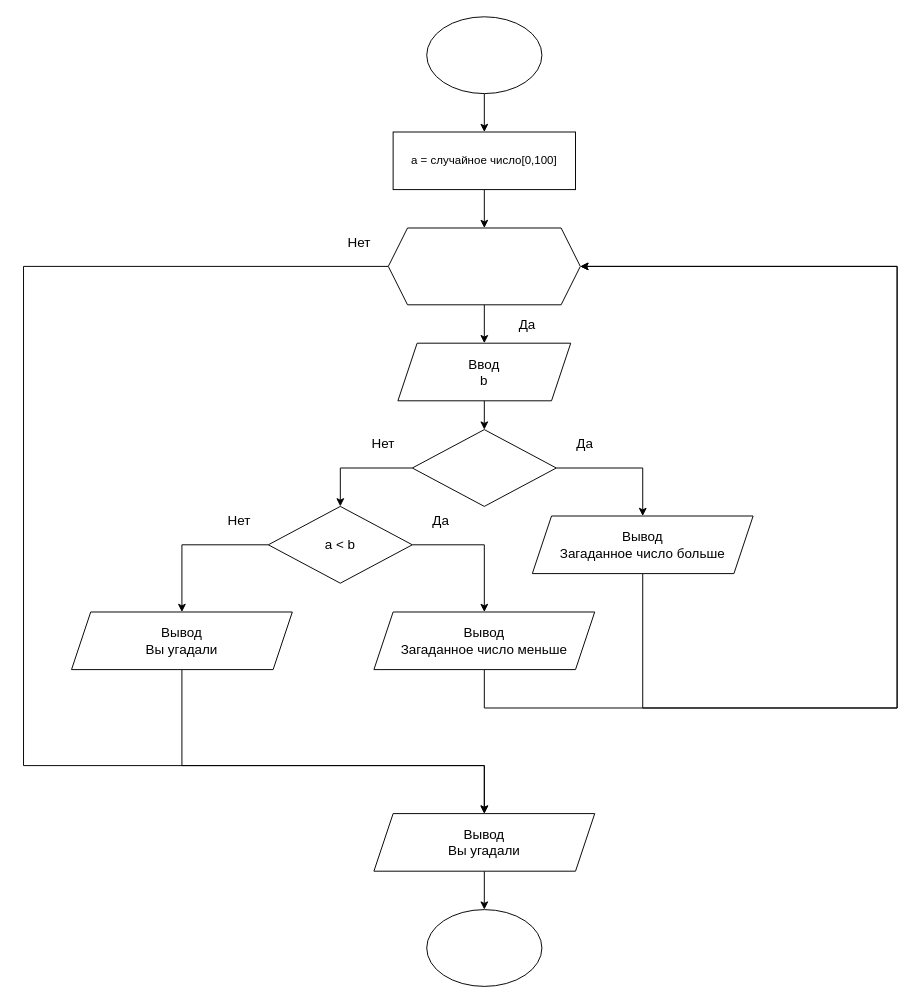
Some shapes in this 922 by 1003 pixel diagram are drawn without their labels. Each missing label, with the box of its shape:
a > b: (411, 429, 556, 506)
i [0,10): (387, 227, 580, 305)
Конец: (426, 909, 542, 986)
Начало: (426, 16, 542, 94)
